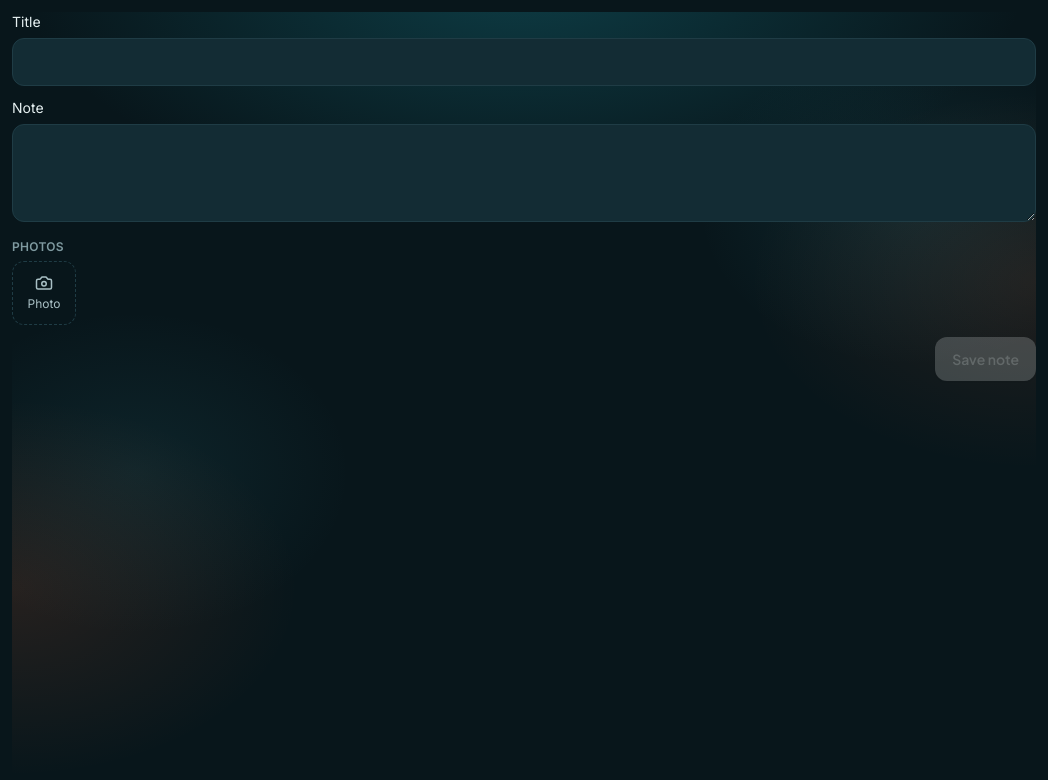
QuickNote › keeps the text and shows an error if saving fails
Type "keep me" into the text box labelled "Note".
click(524, 173); type("keep me")  # box [12,124,1036,222]
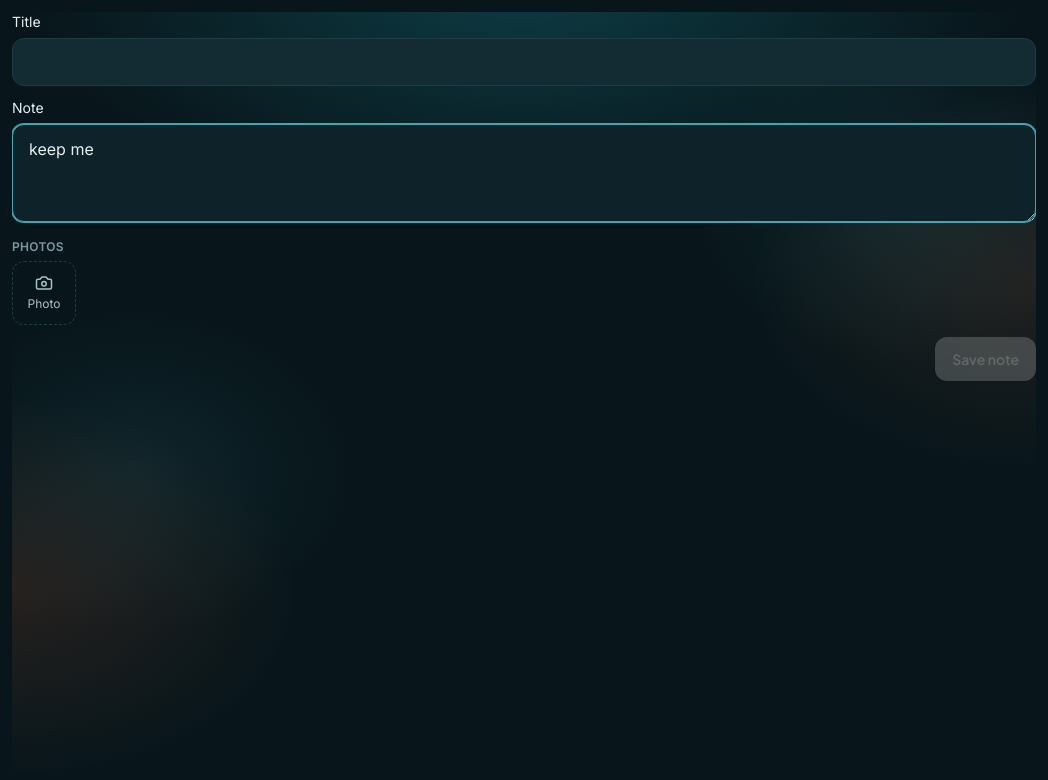
Type "T" into the field labelled "Title".
click(524, 62); type("T")  # box [12,38,1036,86]
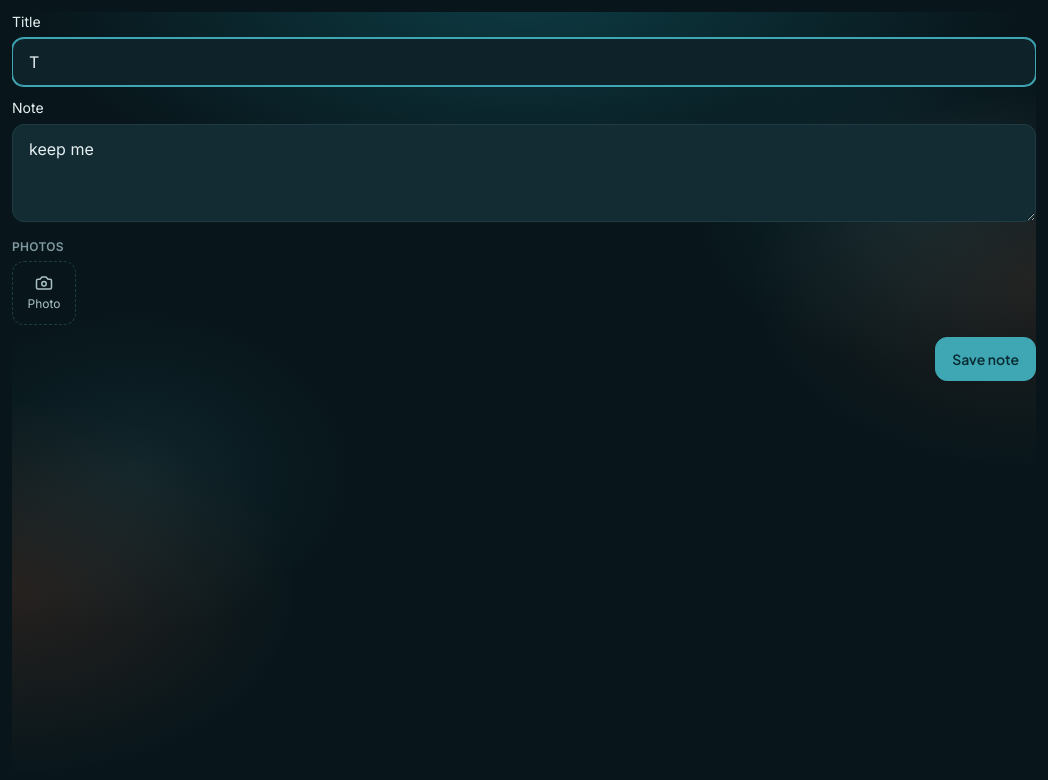
Click the button "Save note".
click(986, 359)  # box [935,337,1036,381]
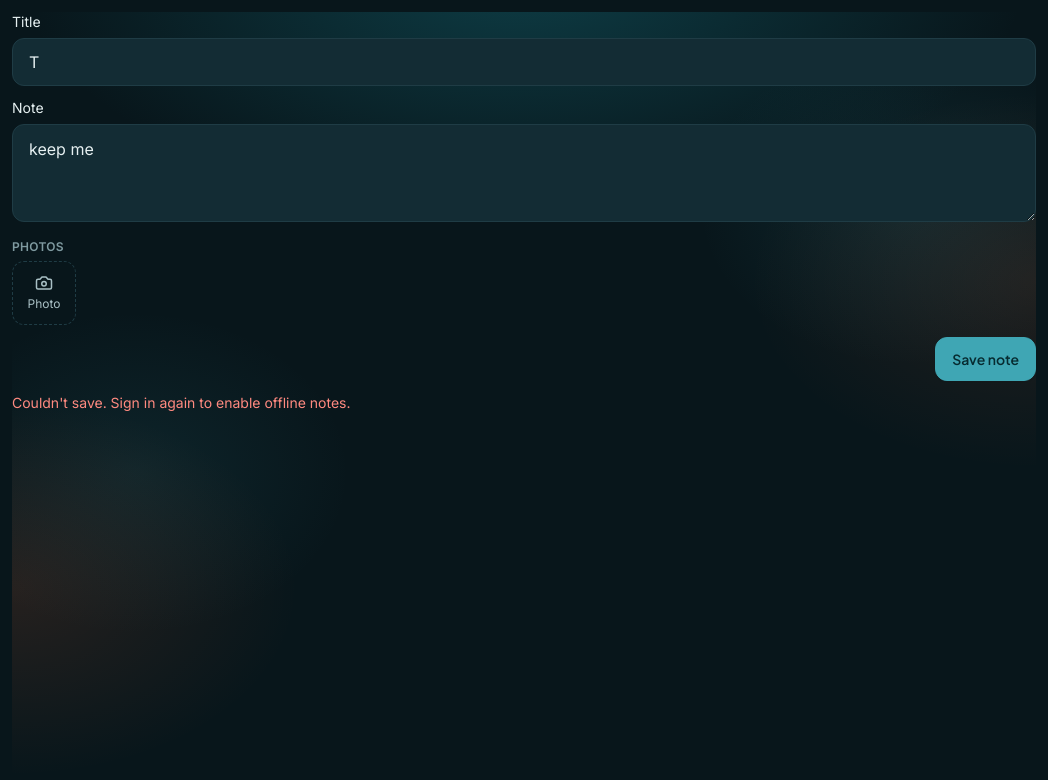
Expected: the message "Couldn't save. Sign in again to enable offline notes." is shown, [12,394,350,411]
